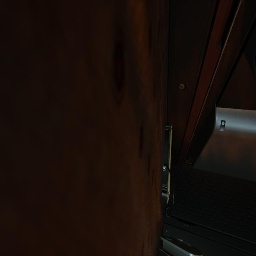EmergencyPhone ,: (162, 123, 176, 218)
SafetySwitchPanel ,: (158, 234, 202, 256)
